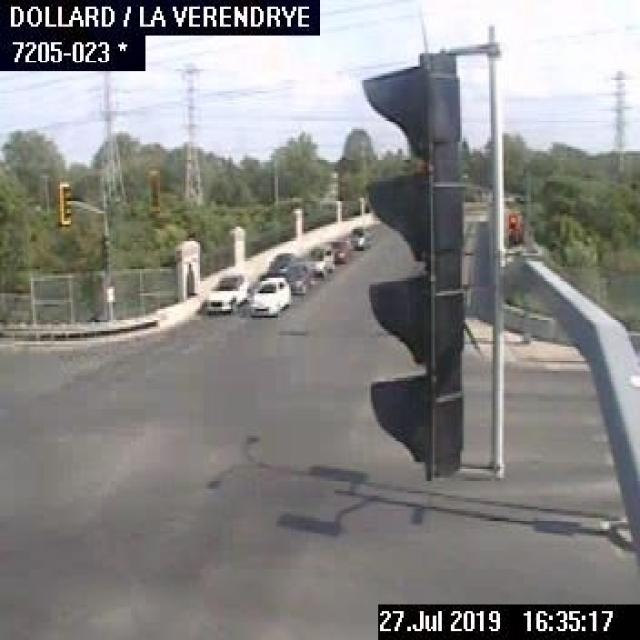vehicle: (200, 268, 250, 313), (250, 275, 292, 316), (302, 240, 334, 278), (285, 262, 311, 294), (266, 248, 294, 274), (348, 223, 369, 249), (330, 237, 350, 263)
